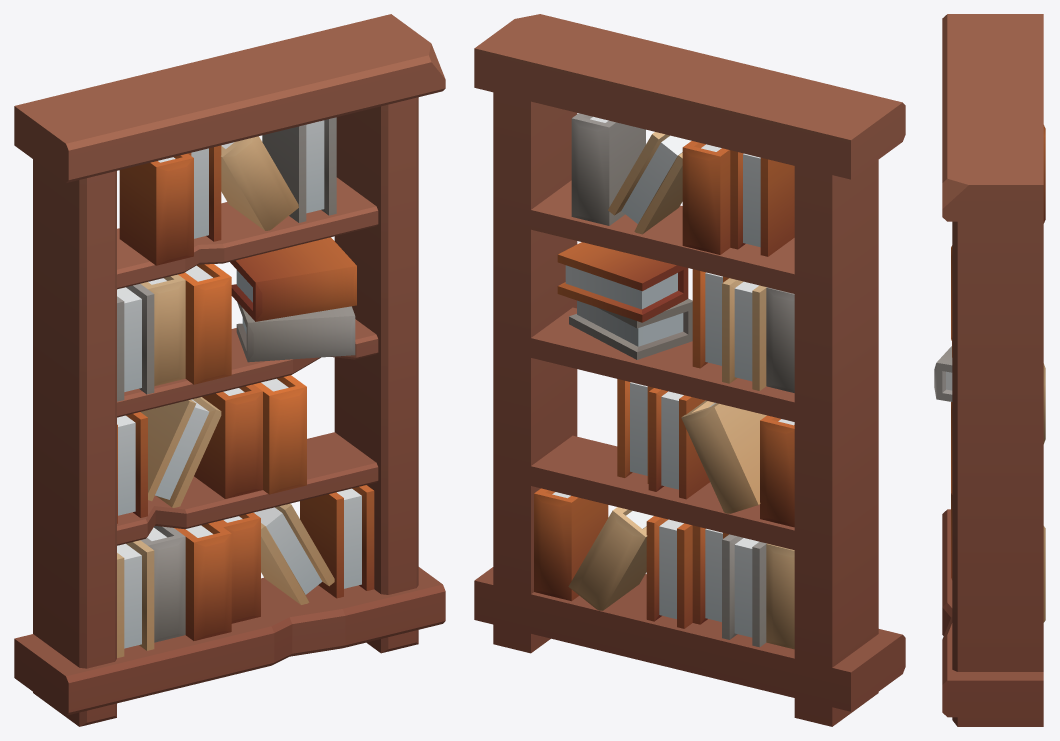
Rendered from bookcase_single_decoratedA.glb.
The picture shows the model from 3 angles, left to right: view 1: azimuth 30°, elevation 25°; view 2: azimuth 150°, elevation 25°; view 3: azimuth 270°, elevation 25°; orthographic projection. The views are drawn at different scales.
Visible parts, largest first — view 1: bookcase_single_decoratedA; view 2: bookcase_single_decoratedA; view 3: bookcase_single_decoratedA.
Part boxes in pixels (x1,y1,x2,y2): bookcase_single_decoratedA: (14, 14, 445, 726); bookcase_single_decoratedA: (474, 14, 905, 726); bookcase_single_decoratedA: (934, 14, 1045, 726).
Bounding box in the file's own units: 2 × 3 × 0.5494.
Materials: 1 (1 with a texture image).
